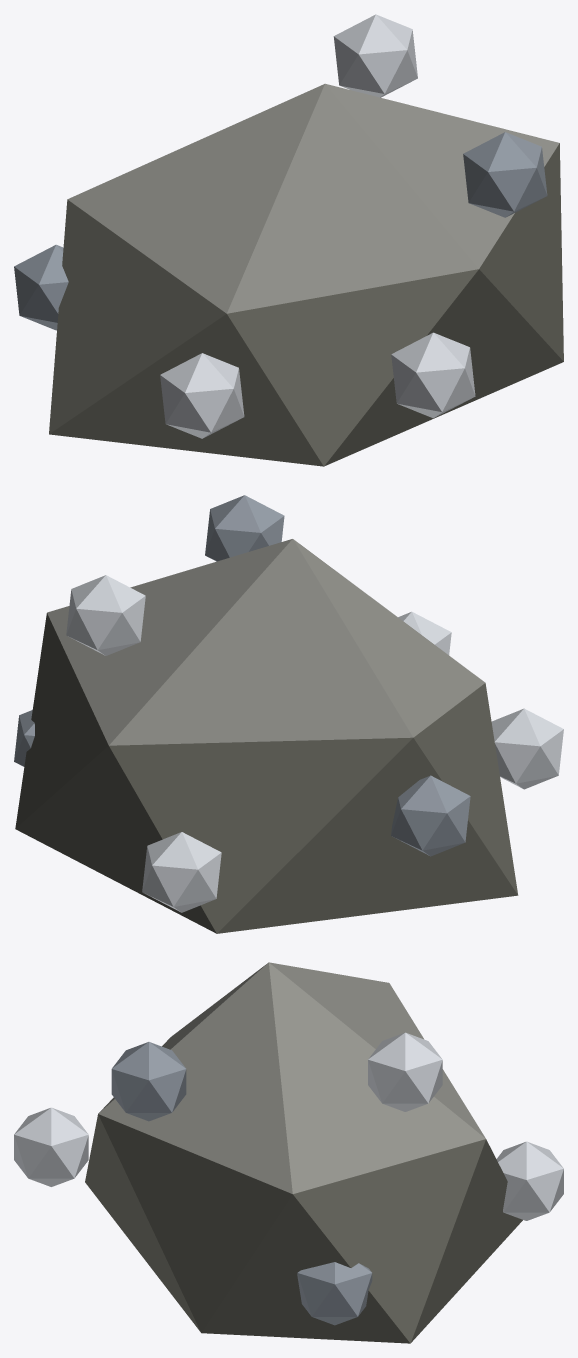
File: IronOre.fbx
3 views of the same model, one above another, from view 1: azimuth 30°, elevation 25°; view 2: azimuth 150°, elevation 25°; view 3: azimuth 270°, elevation 25° (orthographic). The views are drawn at different scales.
Visible parts, largest first — view 1: IronOre; view 2: IronOre; view 3: IronOre.
Boxes of the visible parts, left/top/right/bottom form: IronOre: left=14, top=14, right=563, bottom=466; IronOre: left=14, top=495, right=563, bottom=933; IronOre: left=14, top=962, right=563, bottom=1343.
Bounding box in the file's own units: 3.99 × 2.81 × 4.
Materials: 1 (1 with a texture image).
